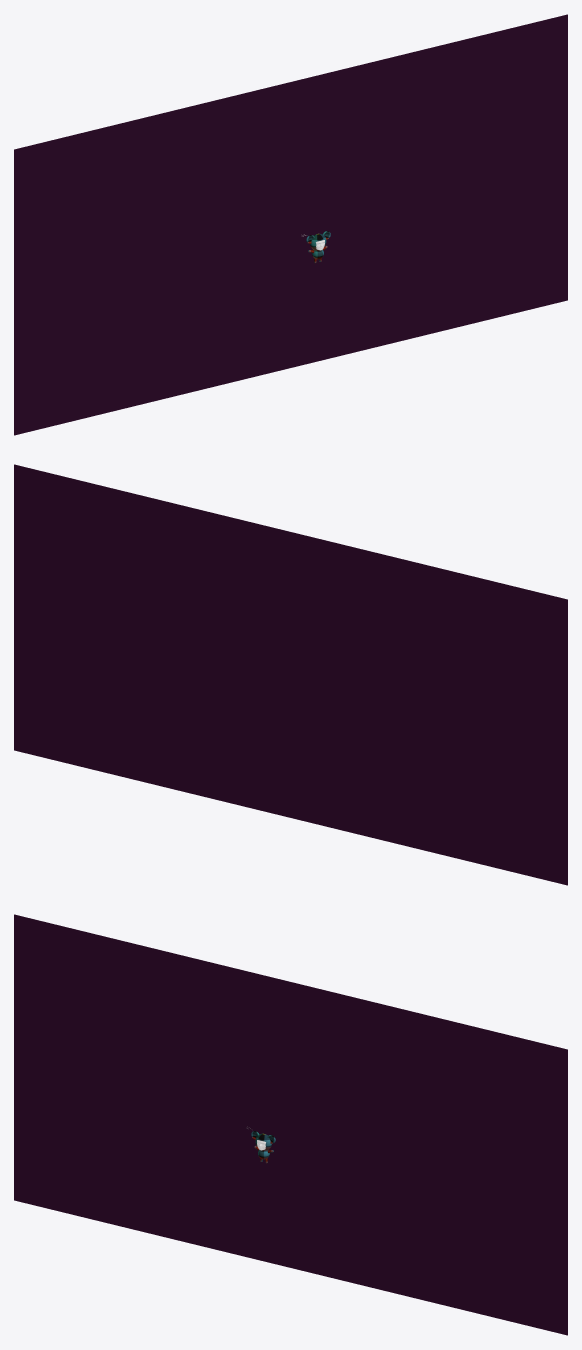
The model's file is Teddy_Fabric.glb.
3 views of the same model, one above another, from view 1: azimuth 30°, elevation 25°; view 2: azimuth 150°, elevation 25°; view 3: azimuth 330°, elevation 25° (orthographic).
Parts seen in each view (by area): view 1: TeddyBackground; view 2: TeddyBackground; view 3: TeddyBackground.
Part boxes in pixels (<box>): TeddyBackground: <box>14,14,567,435</box>; TeddyBackground: <box>14,464,567,885</box>; TeddyBackground: <box>14,914,567,1335</box>.
Bounding box in the file's own units: 873 × 431 × 85.35.
4 materials, 2 textured.
